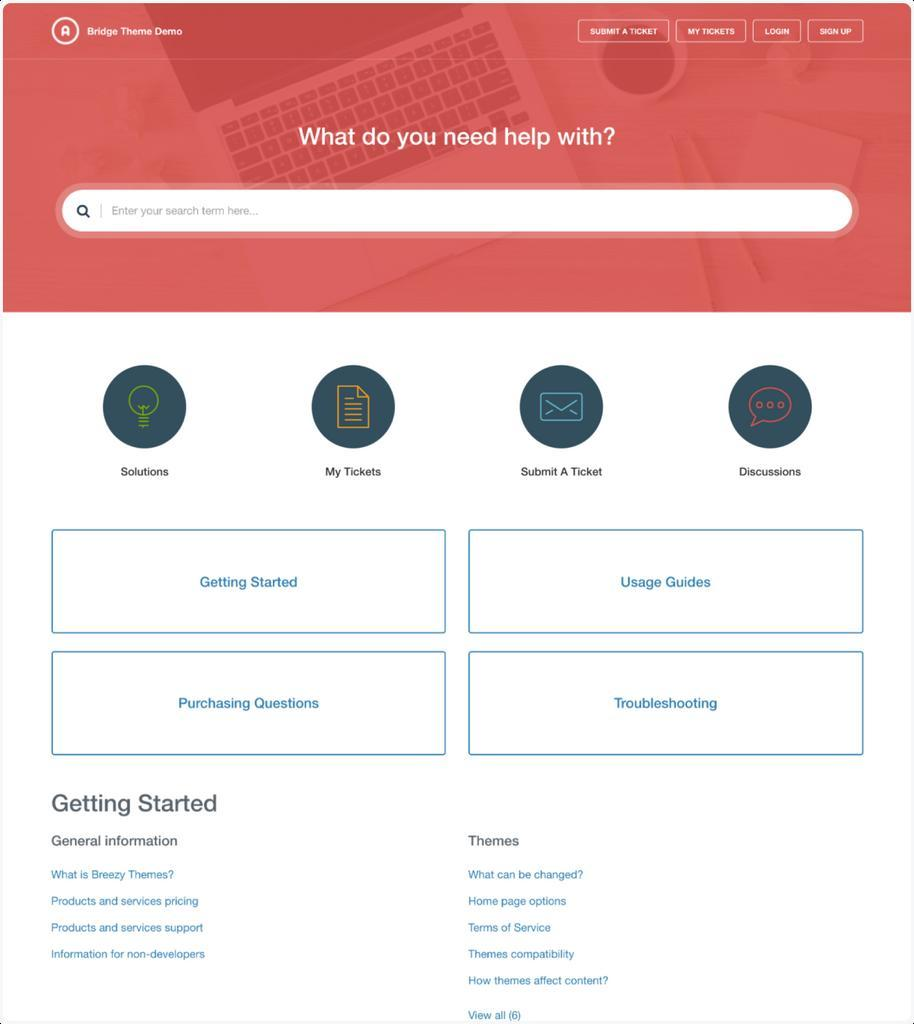button: (470, 529, 864, 634), (53, 530, 448, 634), (52, 652, 447, 756), (470, 652, 865, 756), (579, 20, 671, 43), (676, 20, 748, 43), (809, 22, 864, 44), (754, 20, 803, 44)
icon: (744, 380, 798, 436), (535, 383, 590, 434), (331, 379, 378, 437), (123, 383, 170, 438), (52, 16, 82, 48)
input: (60, 183, 861, 238)
label: (519, 463, 607, 481), (738, 464, 807, 482), (119, 465, 173, 482), (324, 466, 385, 481)
